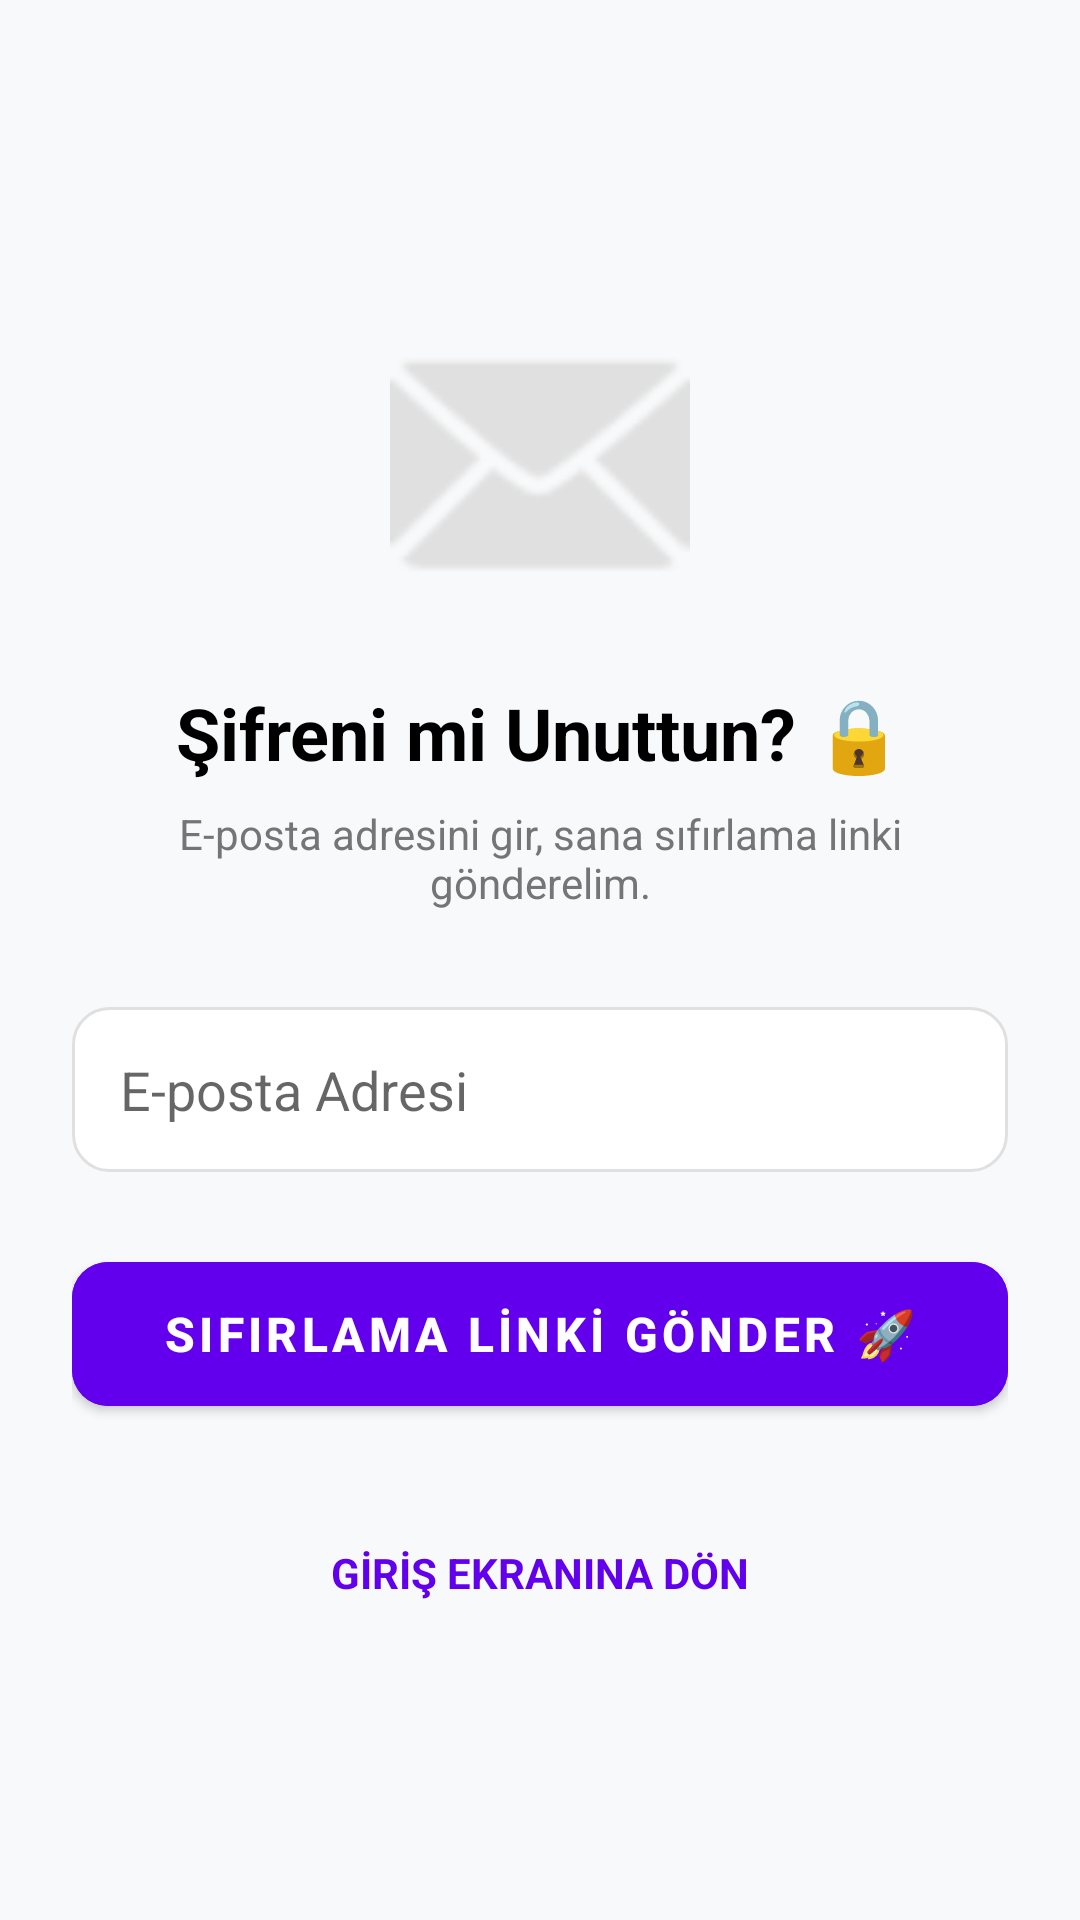

Icon click points for this 1080 × 1920 phone screenshot, format (x=x, y=y):
email: (x=540, y=464)
